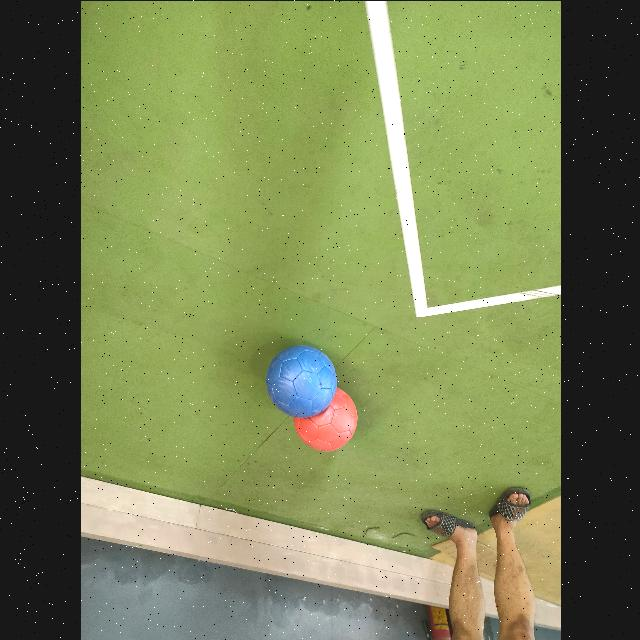B: (264, 345, 336, 417)
R: (293, 388, 356, 451)
